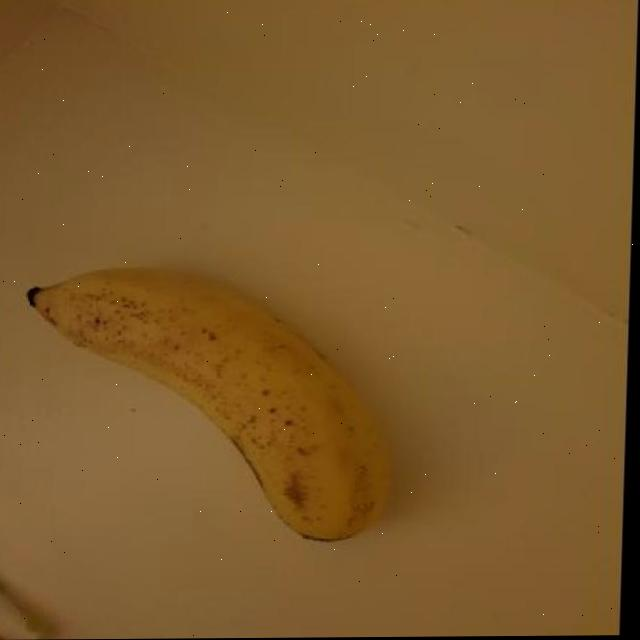banana: (8, 255, 411, 557)
